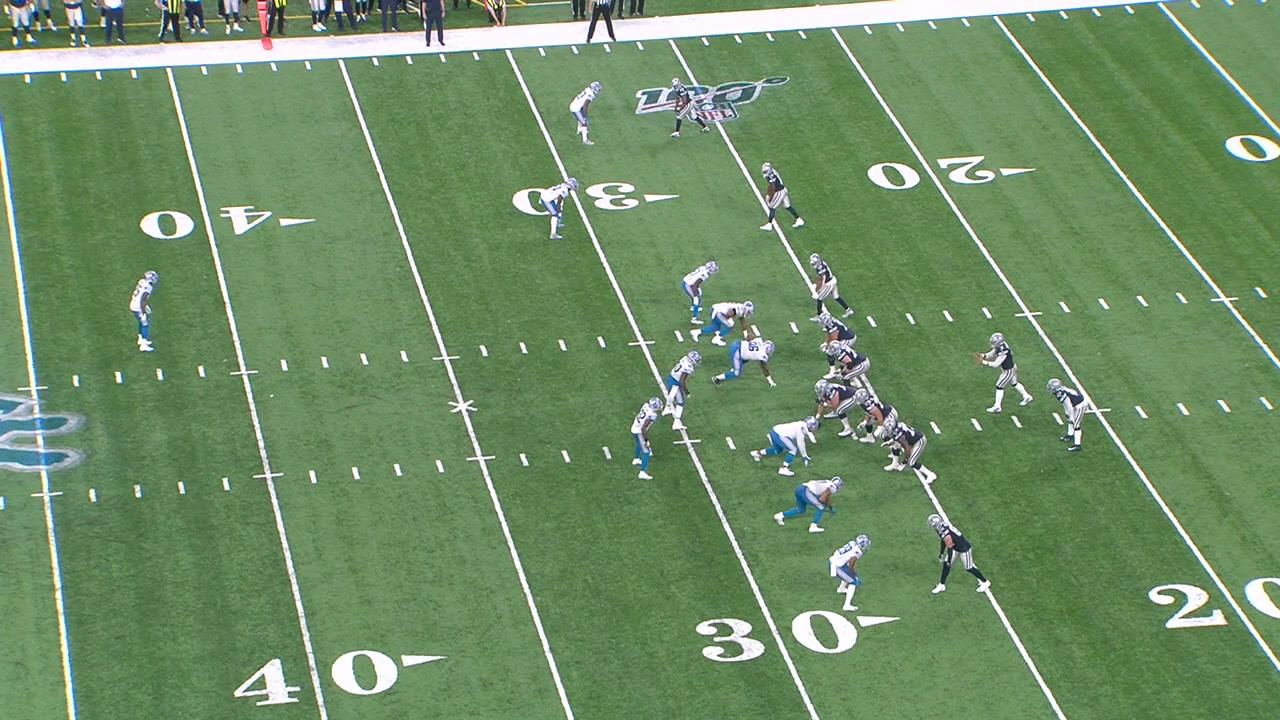defense: (123, 263, 173, 361), (751, 411, 825, 476), (774, 473, 848, 535), (705, 337, 782, 394), (824, 534, 878, 615), (660, 349, 704, 435), (626, 395, 665, 485), (679, 253, 727, 322), (539, 170, 585, 240), (690, 300, 757, 348), (568, 77, 609, 148)
oline: (802, 377, 862, 439), (881, 418, 936, 484), (855, 390, 902, 444), (820, 312, 857, 379), (828, 342, 873, 384)
qb: (975, 333, 1035, 411)
ref: (573, 0, 620, 49)
skill: (927, 510, 997, 600), (1046, 376, 1094, 467), (754, 155, 808, 234), (805, 251, 858, 322), (670, 71, 712, 145)
